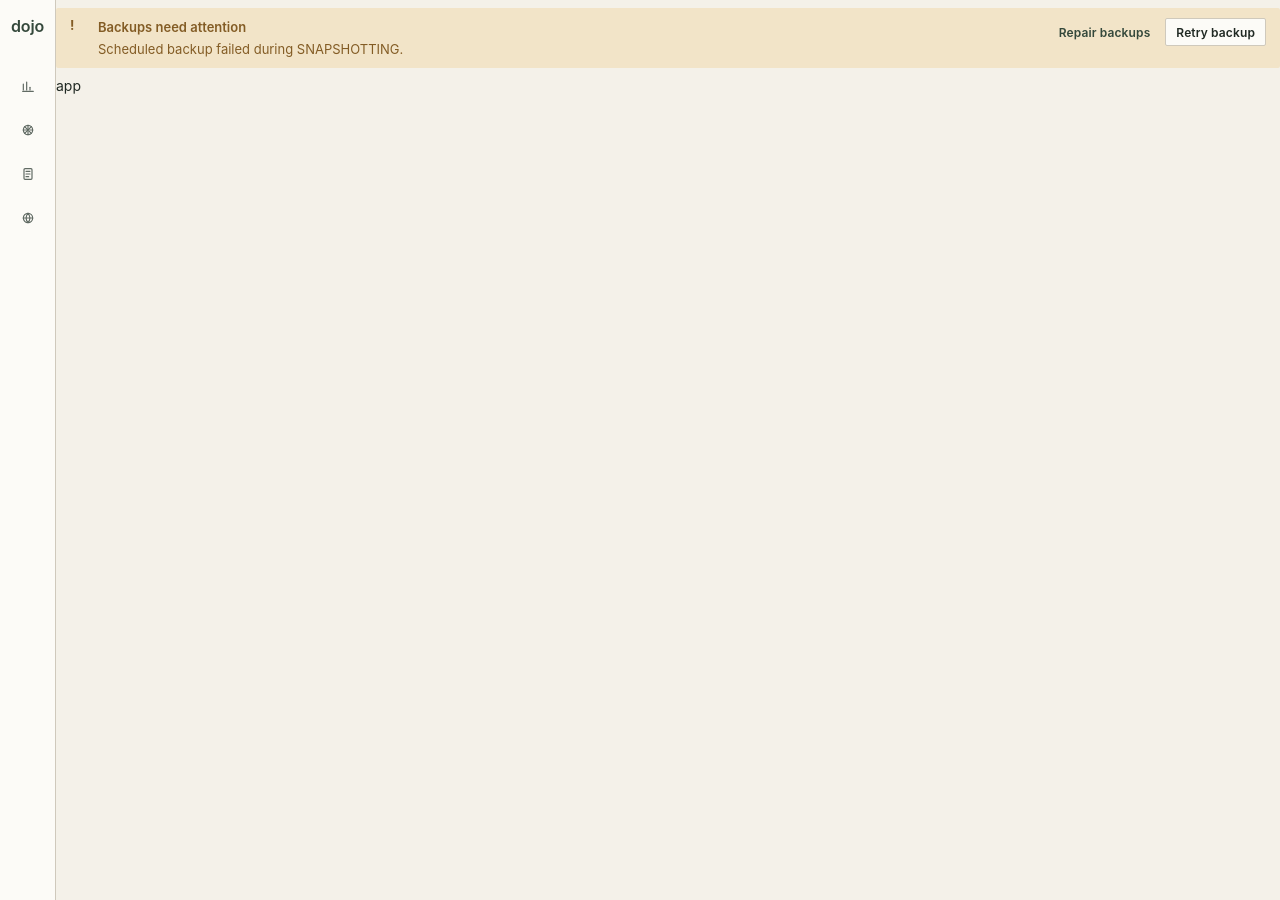
dojo app › queues a retry for a failed backup
Step 1. Click the button "Retry backup" → (1216, 32), box [1165,18,1266,46]
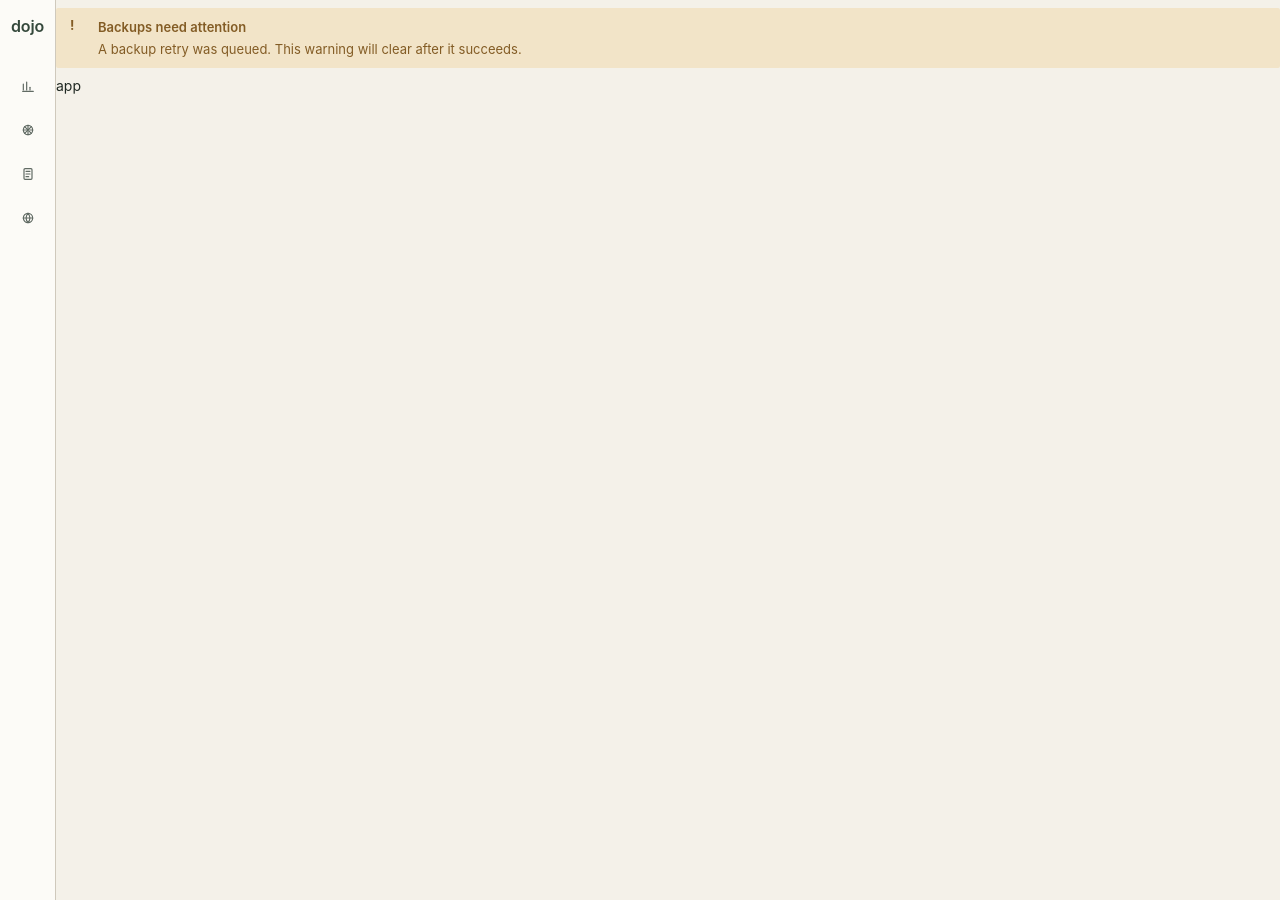
Expected: the text "A backup retry was queued." is shown, [98,41,522,57]
